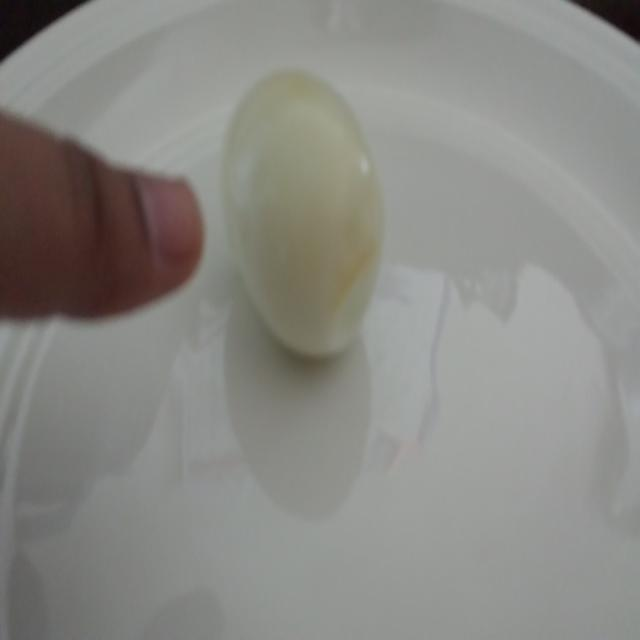egg: (213, 61, 411, 386)
